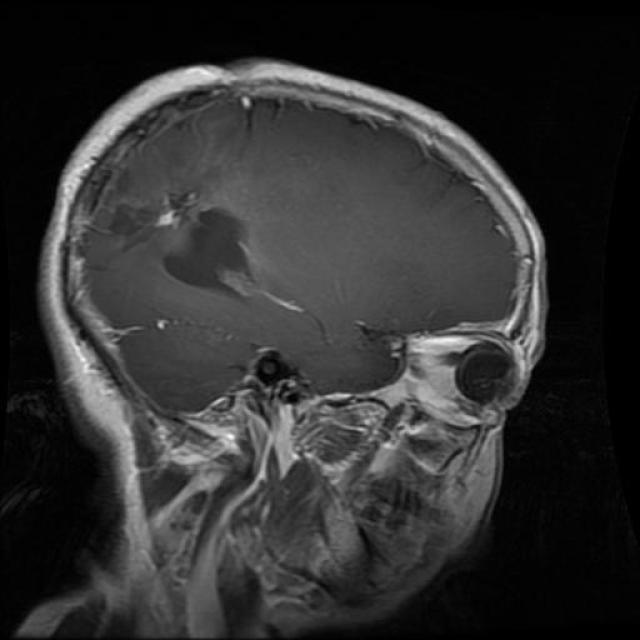glioma: (168, 196, 298, 326)
